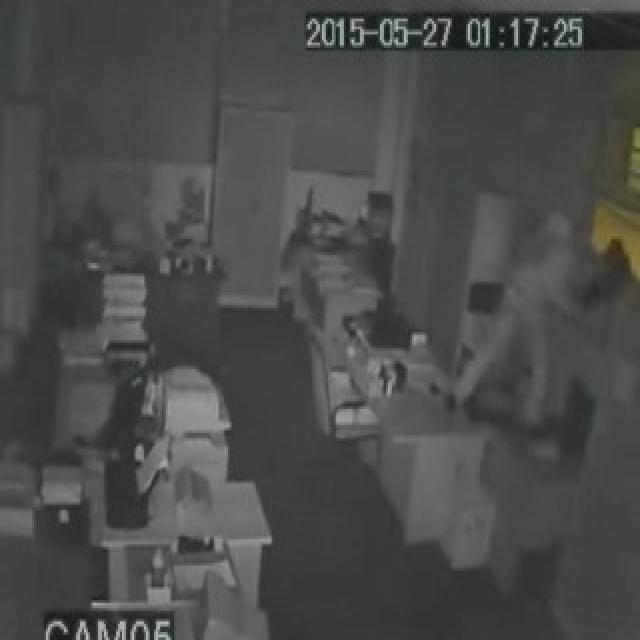thief: (511, 176, 593, 351)
